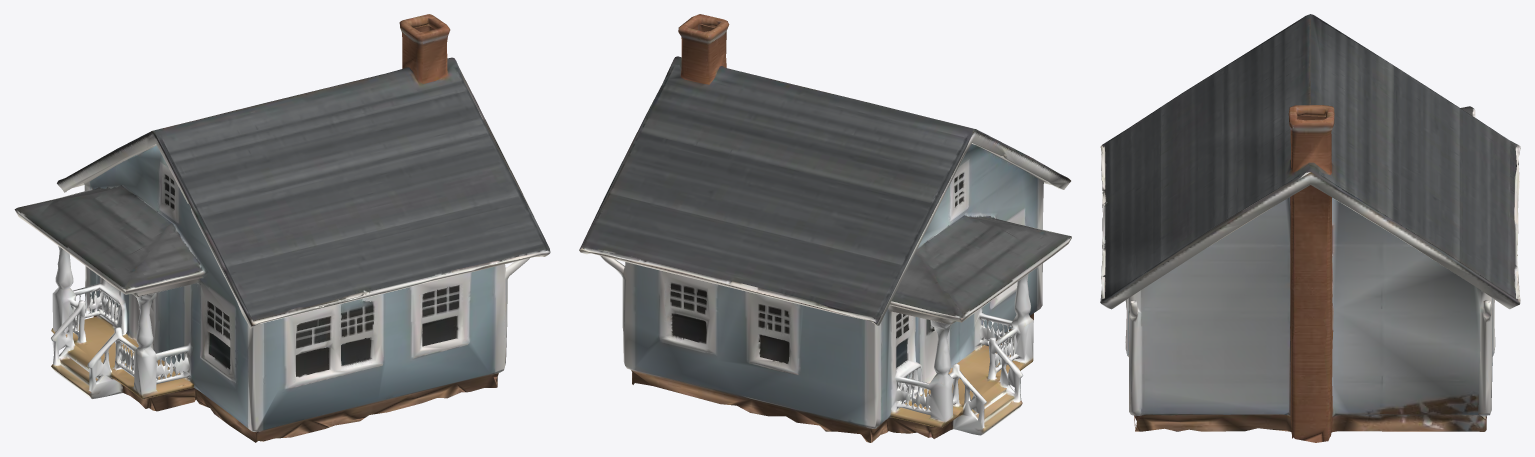
Rendered from house_ranch.glb.
The picture shows the model from 3 angles, left to right: view 1: azimuth 30°, elevation 25°; view 2: azimuth 150°, elevation 25°; view 3: azimuth 270°, elevation 25°; orthographic projection. The views are drawn at different scales.
Bounding box in the file's own units: 0.9999 × 0.7909 × 0.9297.
Materials: 1 (1 with a texture image).
